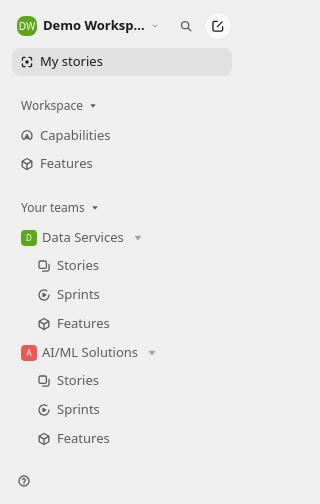
no shortcut hints; sections and teams collapse and remember it
The width and height of the screenshot is (320, 504).
Click the button "Workspace". click: (59, 106)
box: [12, 92, 107, 120]
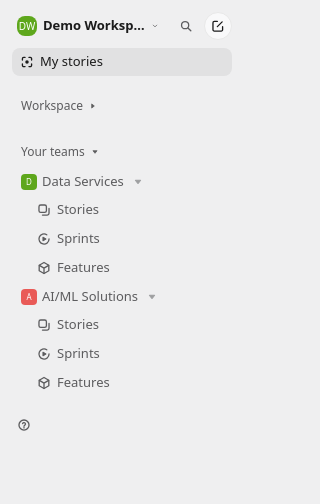
Check: the button "Capabilities" is gone
Click the button "D Data Services". click: (122, 182)
box: [12, 168, 232, 196]
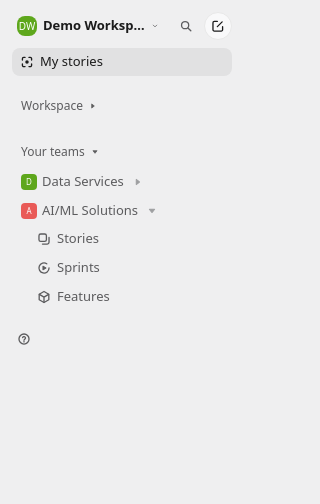
Check: the number of buttons "Stories" is 1, box [31, 225, 232, 253]
